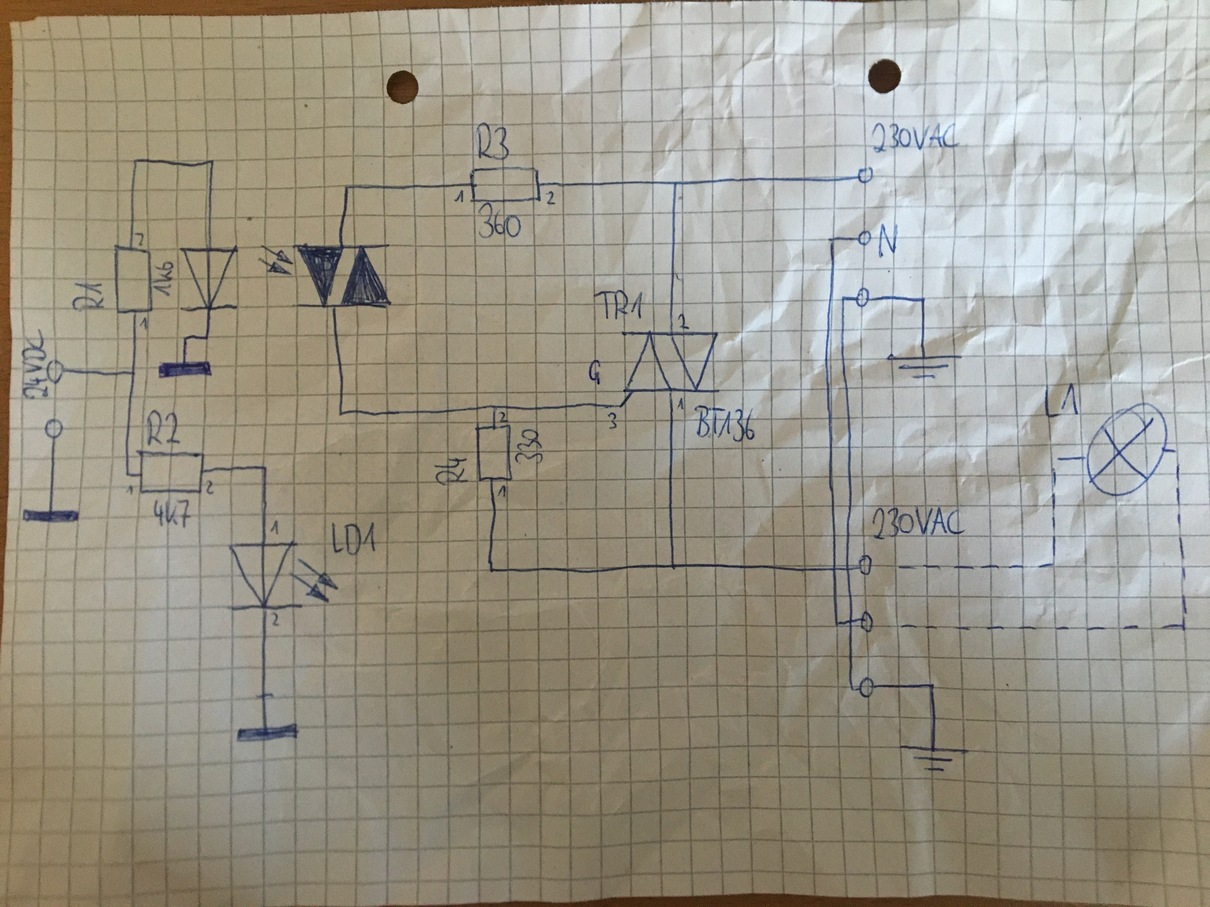crossover: (846, 615, 856, 626), (843, 563, 852, 574), (829, 564, 838, 574)
diode.light_emitting: (225, 538, 342, 612)
gnd: (895, 740, 974, 776), (884, 351, 966, 382), (234, 721, 303, 746), (156, 358, 215, 382), (20, 506, 84, 527)
junction: (1049, 454, 1063, 475), (1047, 552, 1060, 570), (1173, 447, 1182, 467), (127, 366, 140, 379), (918, 293, 930, 306), (926, 680, 939, 691), (827, 234, 838, 246), (1179, 620, 1189, 633), (668, 561, 679, 572), (180, 332, 190, 344), (208, 156, 218, 167), (490, 402, 499, 413), (342, 182, 351, 193), (487, 566, 497, 575), (260, 463, 270, 472), (670, 179, 680, 188), (130, 156, 139, 166), (201, 333, 212, 341), (833, 619, 842, 628), (839, 294, 848, 303), (123, 470, 132, 479), (848, 685, 857, 694), (336, 409, 345, 417)
lamp: (1083, 400, 1170, 497)
optocoupler: (178, 241, 396, 315)
resistor: (135, 448, 206, 496), (112, 242, 155, 316), (468, 166, 543, 204), (473, 423, 515, 483)
terminal: (45, 357, 69, 385), (43, 416, 65, 441), (855, 164, 877, 187), (855, 229, 873, 248)
text: (867, 503, 970, 543), (870, 119, 964, 155), (692, 403, 758, 444), (17, 325, 49, 403), (328, 519, 378, 557), (591, 288, 645, 322), (477, 202, 523, 240), (473, 120, 513, 163), (143, 408, 184, 447), (1042, 382, 1082, 420), (432, 454, 471, 489), (152, 497, 192, 531), (70, 279, 107, 314), (513, 427, 545, 466), (876, 220, 900, 260), (153, 258, 177, 297), (586, 357, 604, 388), (676, 312, 694, 330), (605, 410, 620, 431), (268, 518, 283, 537), (269, 610, 283, 629), (544, 189, 558, 208), (133, 231, 148, 247), (204, 478, 216, 497), (453, 188, 466, 205), (123, 483, 136, 499), (138, 316, 151, 332), (675, 396, 687, 412), (497, 483, 508, 500), (497, 410, 510, 424)
triac: (618, 328, 725, 406)
